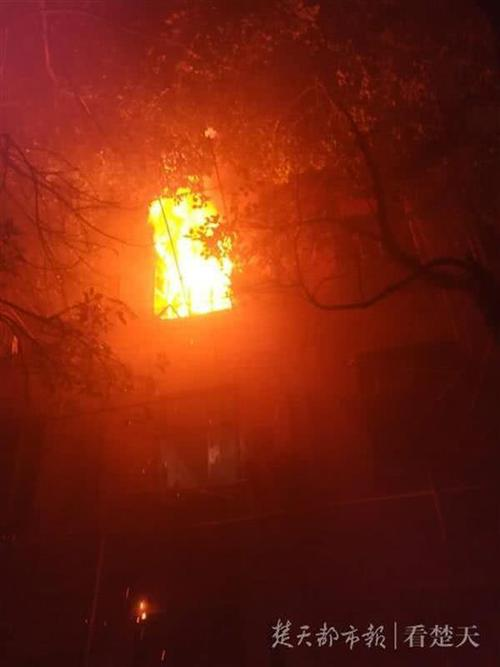fire: (137, 183, 243, 331)
